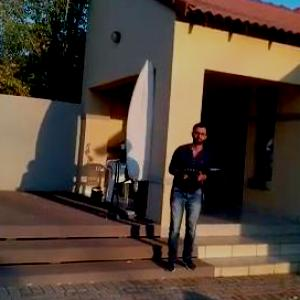follow: (160, 118, 213, 275)
